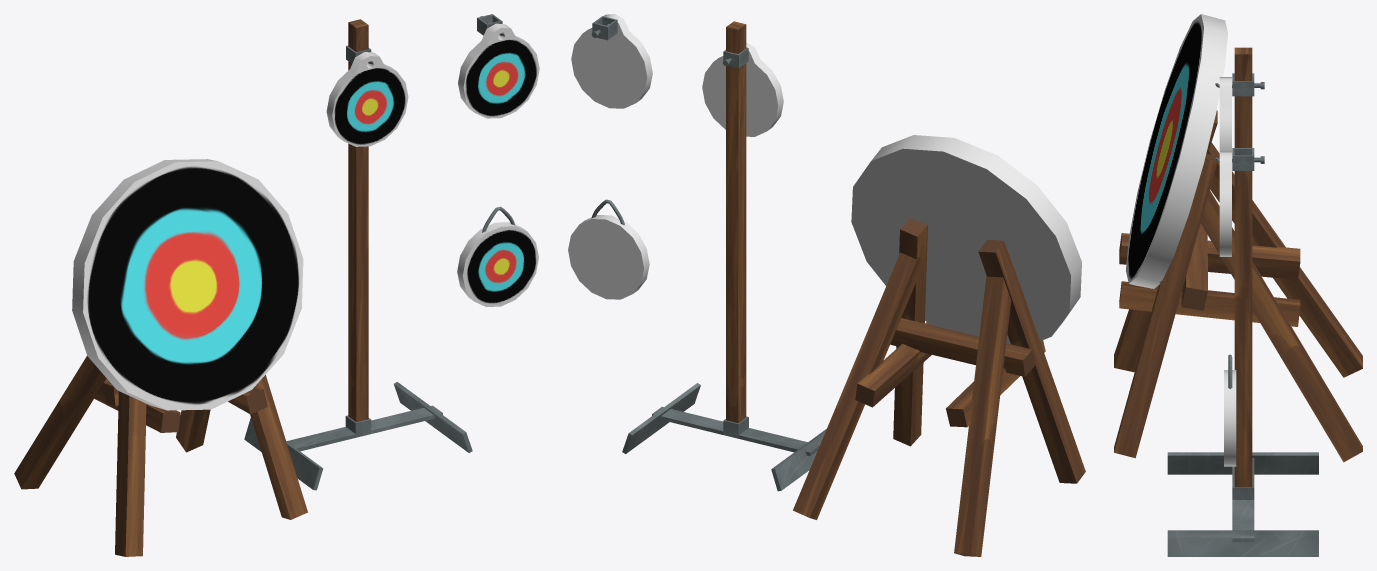
Rendered from bow_target.fbx.
The picture shows the model from 3 angles, left to right: view 1: azimuth 30°, elevation 25°; view 2: azimuth 150°, elevation 25°; view 3: azimuth 270°, elevation 25°; orthographic projection. The views are drawn at different scales.
Parts seen in each view (by area): view 1: polySurface52, polySurface46, polySurface55, polySurface41, pCylinder29; view 2: polySurface52, polySurface46, polySurface55, pCylinder29, polySurface41; view 3: polySurface52, polySurface46, polySurface55, polySurface41, pCylinder29.
Part boxes in pixels (bbox=[...]): polySurface52: bbox=[14, 159, 307, 556]; polySurface46: bbox=[244, 19, 472, 490]; polySurface55: bbox=[458, 14, 539, 118]; polySurface41: bbox=[326, 45, 408, 146]; pCylinder29: bbox=[457, 206, 538, 306]; polySurface52: bbox=[793, 135, 1085, 556]; polySurface46: bbox=[622, 21, 826, 491]; polySurface55: bbox=[571, 14, 652, 108]; pCylinder29: bbox=[568, 199, 649, 299]; polySurface41: bbox=[702, 42, 783, 136]; polySurface52: bbox=[1114, 14, 1362, 462]; polySurface46: bbox=[1167, 47, 1318, 556]; polySurface55: bbox=[1215, 148, 1264, 256]; polySurface41: bbox=[1215, 73, 1264, 151]; pCylinder29: bbox=[1224, 354, 1236, 466].
Bounding box in the file's own units: 259 × 221 × 105.
